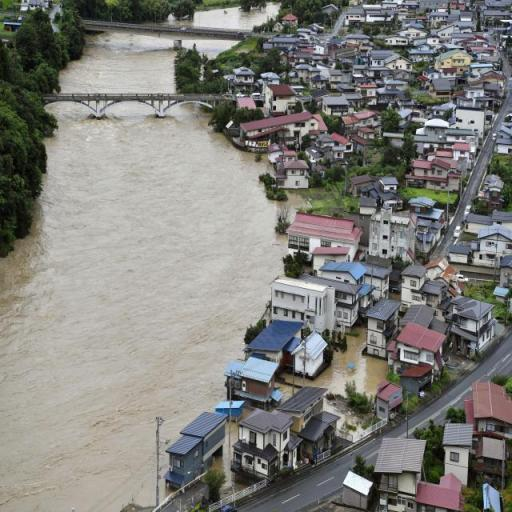flood: (0, 102, 286, 512), (60, 31, 235, 92), (194, 3, 278, 28)
house: (166, 410, 230, 492), (273, 268, 354, 330), (233, 404, 296, 478), (288, 211, 364, 262), (468, 378, 512, 459), (372, 438, 432, 494), (396, 318, 446, 384), (448, 293, 498, 357), (225, 352, 281, 406), (236, 110, 315, 146), (372, 207, 418, 256), (286, 329, 330, 379), (364, 297, 397, 363), (298, 412, 338, 465), (440, 421, 474, 481), (270, 146, 310, 192), (414, 474, 463, 510), (340, 469, 376, 512), (408, 159, 455, 188), (420, 197, 446, 249), (374, 380, 406, 422), (477, 225, 512, 262), (398, 262, 427, 300), (454, 104, 490, 134), (316, 131, 354, 157), (481, 175, 505, 209), (434, 47, 472, 68), (432, 257, 460, 285), (423, 118, 447, 147), (268, 84, 293, 110), (355, 112, 378, 140), (320, 95, 350, 115), (382, 52, 413, 71), (448, 127, 480, 145), (463, 216, 491, 234), (483, 6, 512, 20), (377, 175, 398, 194), (232, 68, 254, 86), (344, 6, 366, 24), (483, 78, 506, 95), (494, 137, 512, 156), (359, 82, 379, 99), (398, 28, 428, 39), (347, 32, 369, 47), (274, 36, 300, 48), (438, 24, 456, 41), (19, 0, 46, 11), (369, 50, 385, 68), (296, 63, 311, 82), (328, 69, 344, 86), (421, 69, 441, 82), (386, 35, 408, 46), (431, 10, 448, 23), (468, 86, 484, 98), (284, 13, 298, 25)
